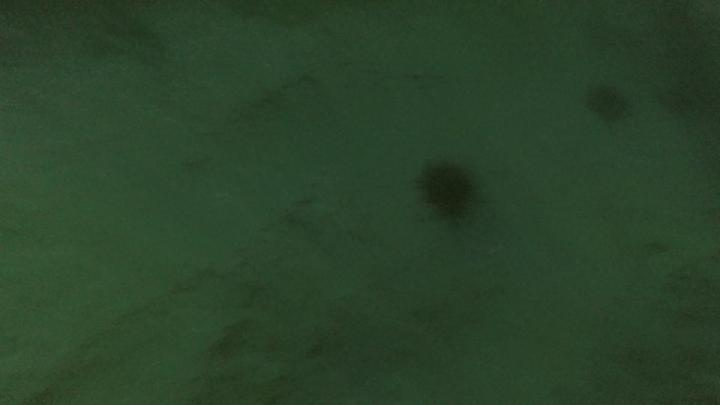echinus: (415, 156, 480, 222), (583, 79, 632, 124)
